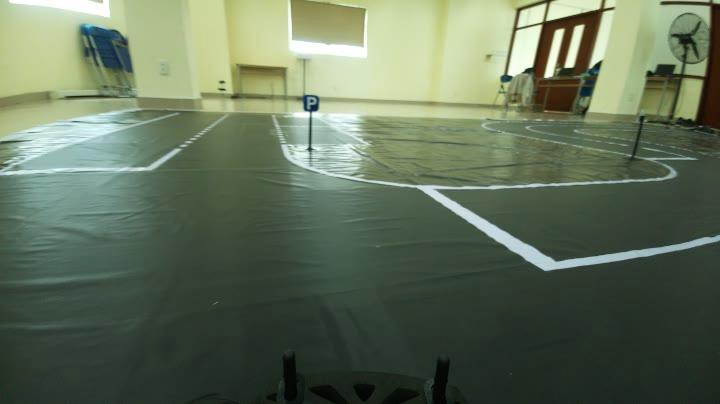parking: (300, 90, 322, 113)
